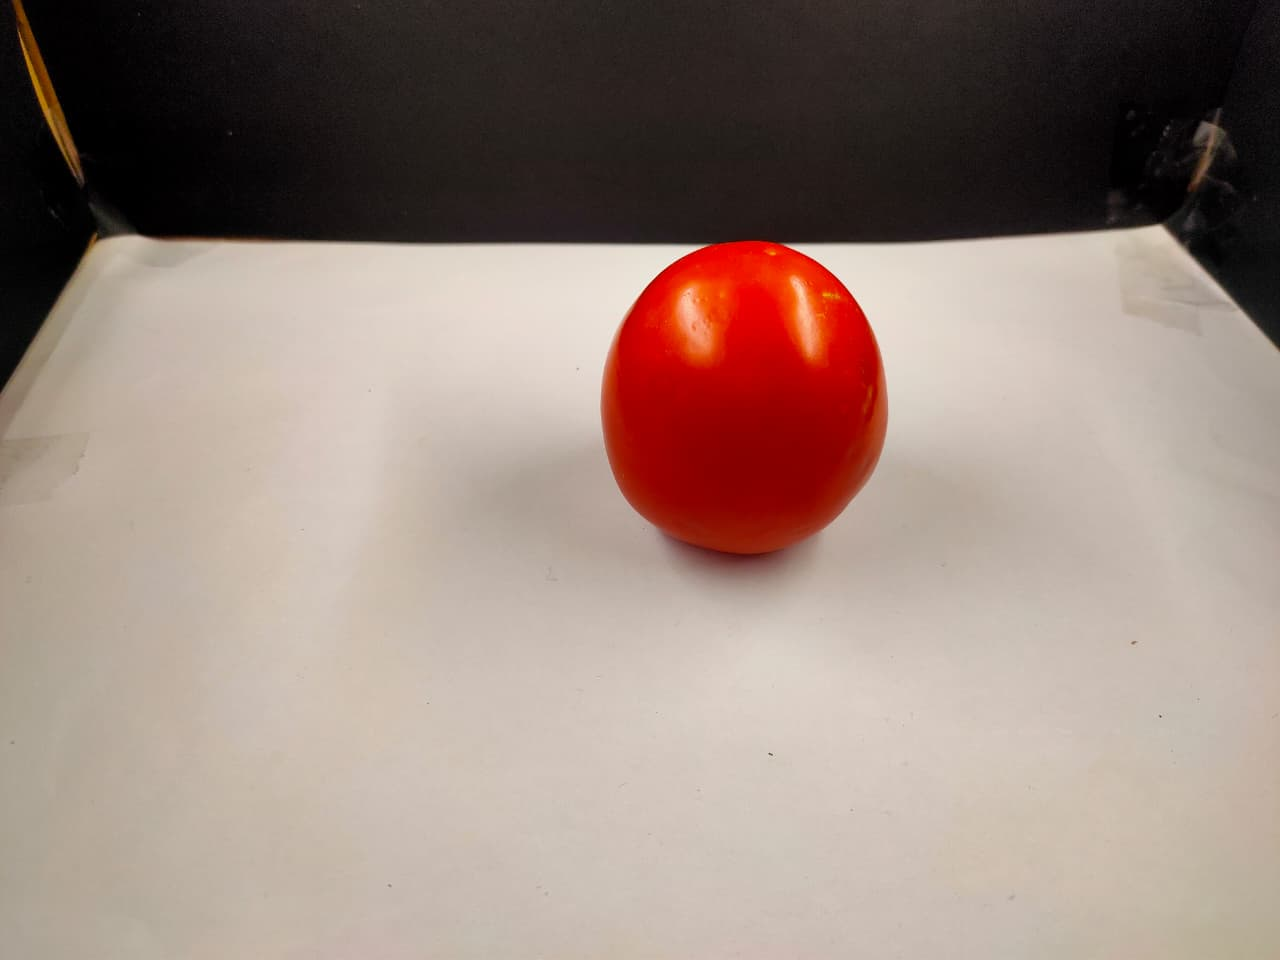ripe: (596, 229, 897, 573)
